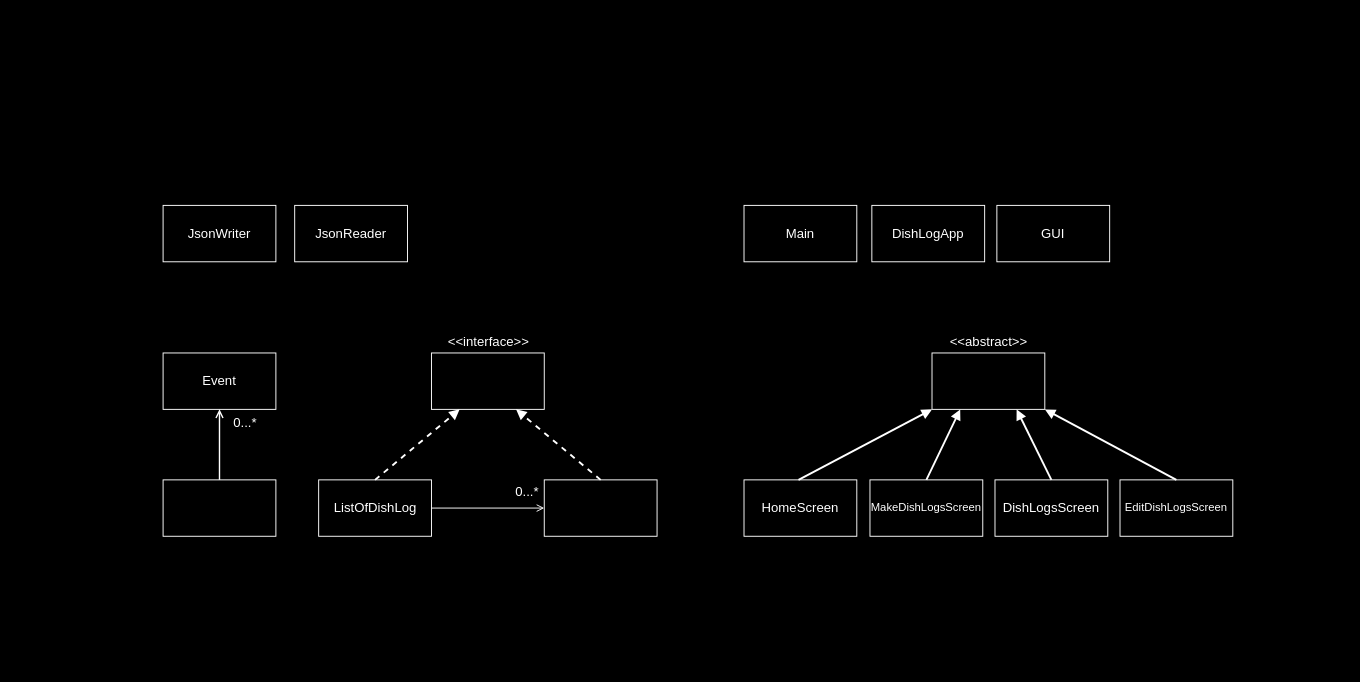
The diagram is 1360 pixels wide and 682 high, and some of its shapes have lost their labels. Here are the shapes that lost their labels. From the top down, the centre of each, then its label:
At (487,380): "Writable".
At (988,380): "Screen".
At (219,507): "EventLog".
At (600,507): "DishLog".
